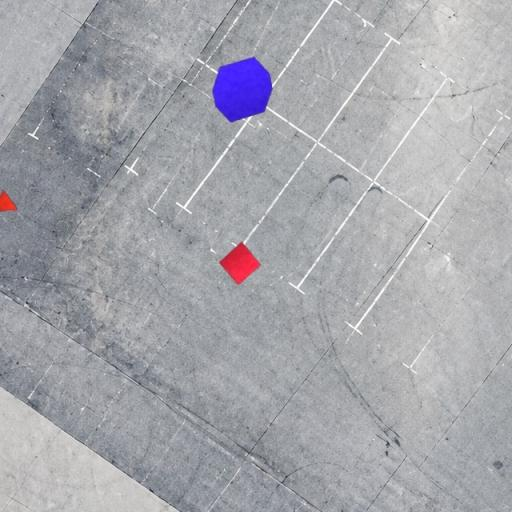RED_SQUARE: (218, 241, 262, 285)
